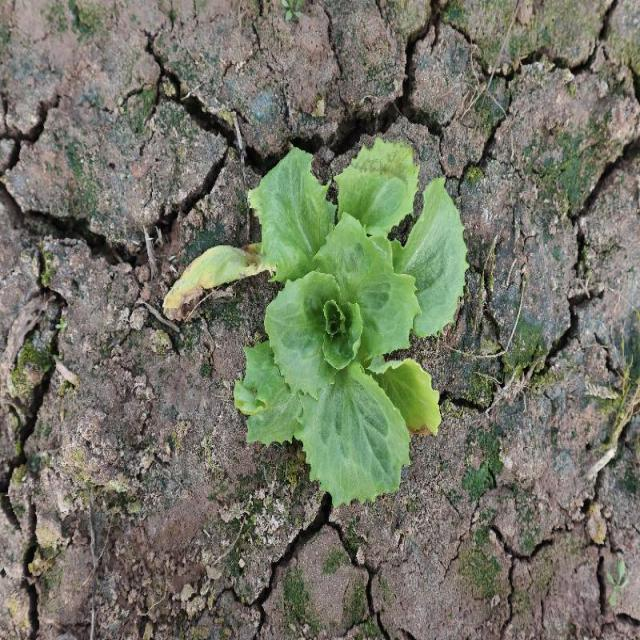crop: (233, 136, 470, 506)
